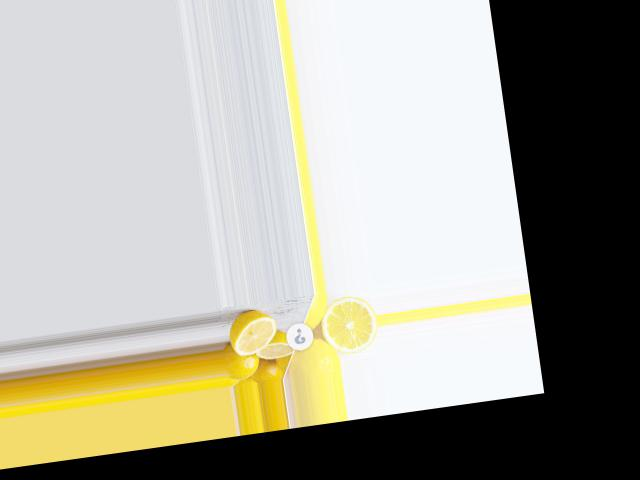lemon: (283, 332, 344, 378)
